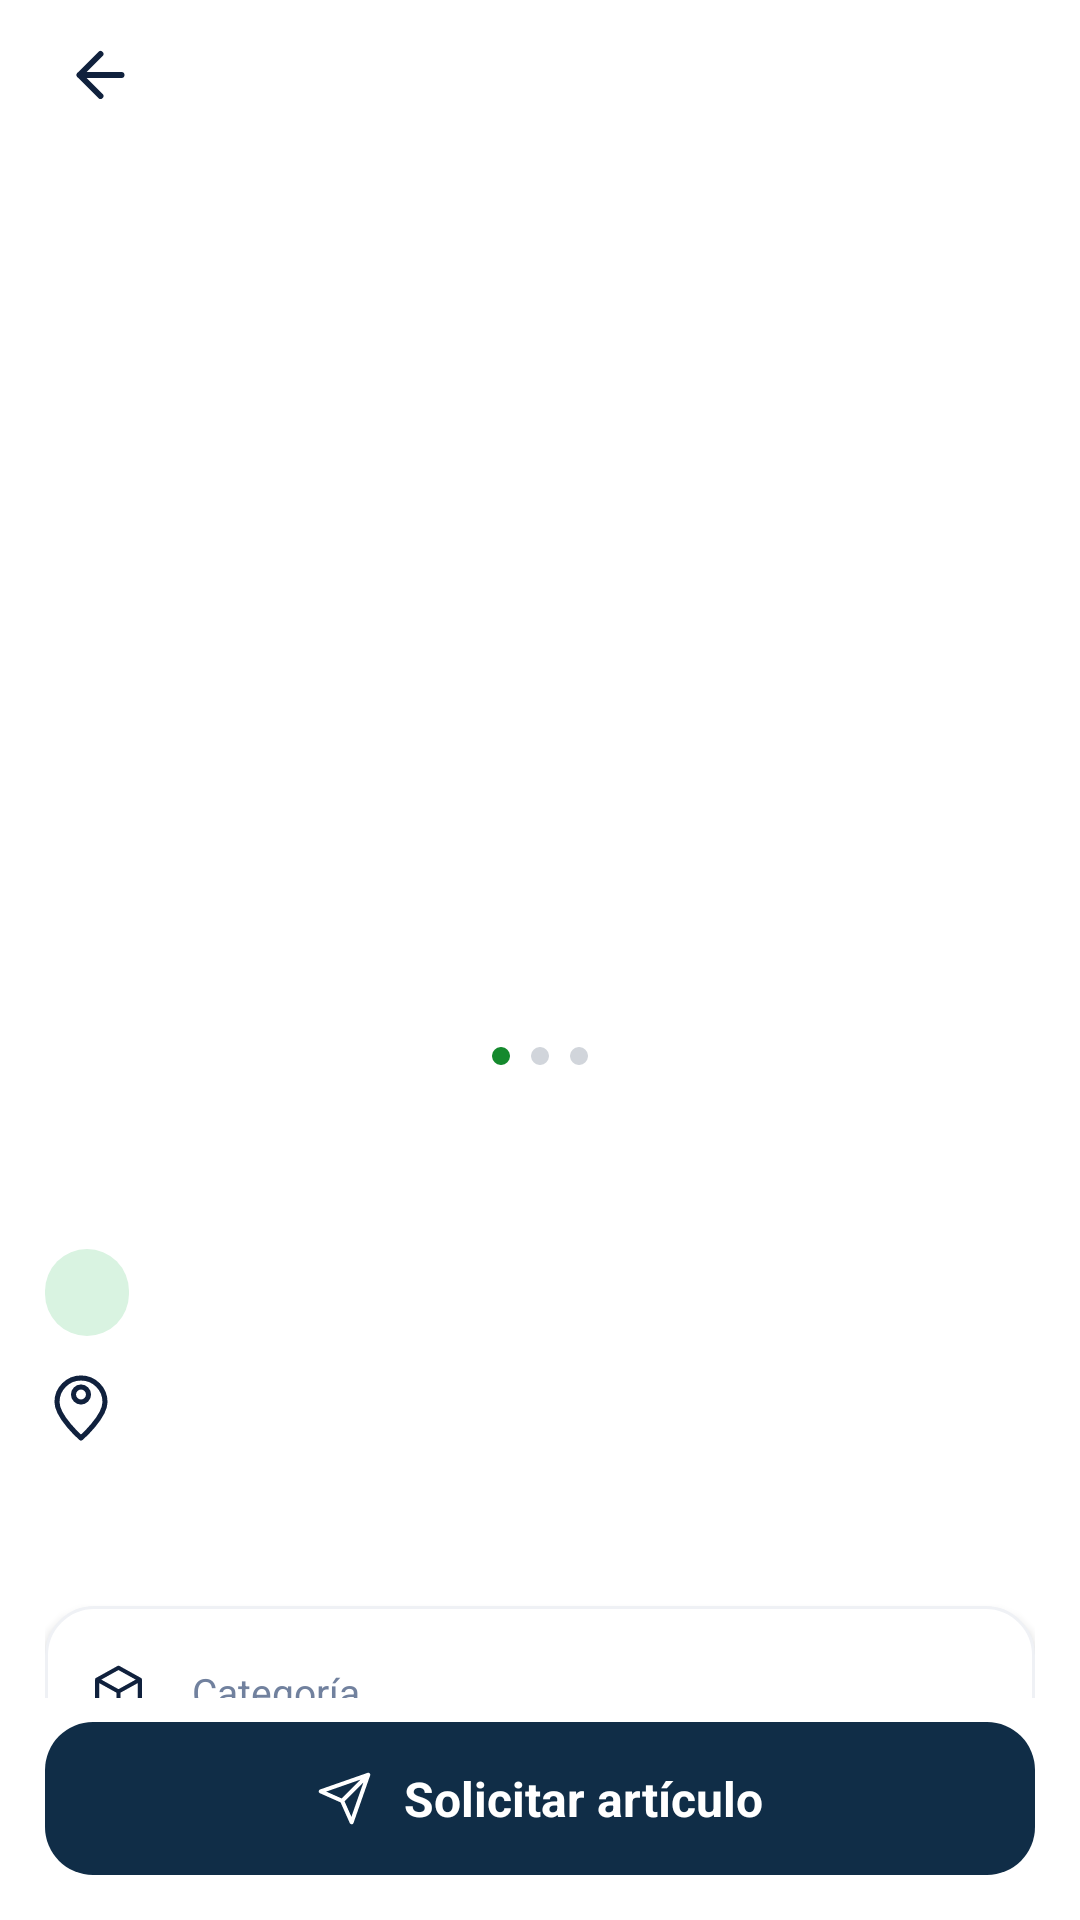

Where to tap for icons on this 1080px x 1920px app screen, as point (x, y):
rota back: point (100, 74)
rota send: point (344, 1798)
